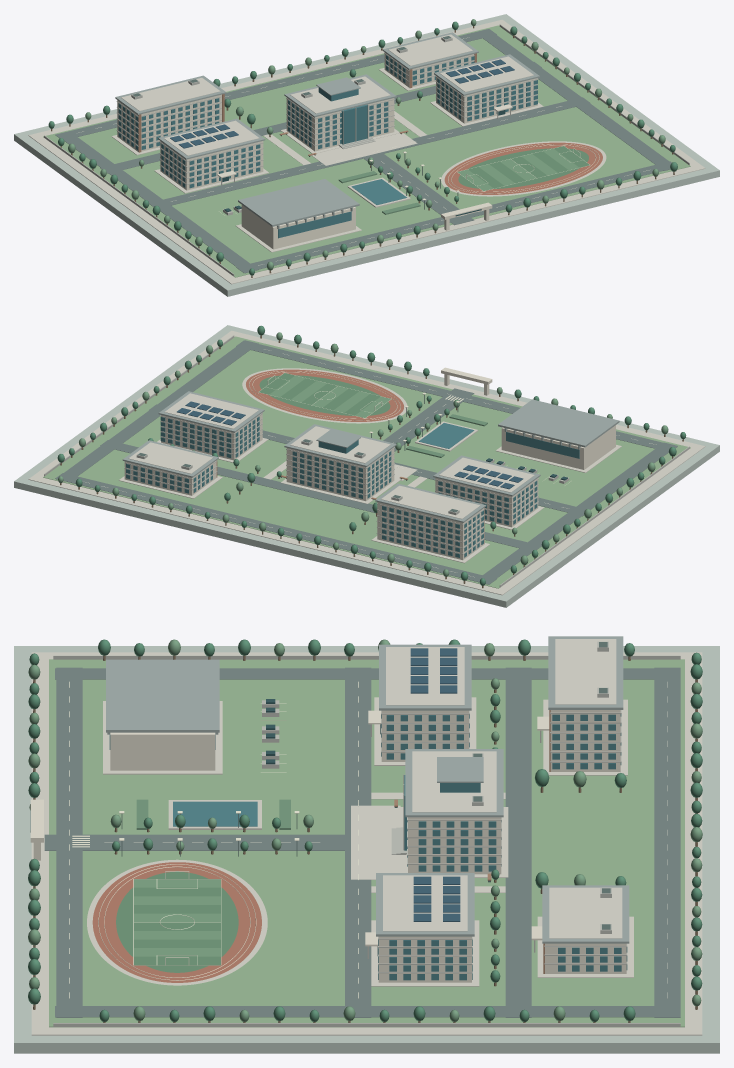
The model's file is campus.glb.
3 renders of one model, top to bottom at view 1: azimuth 30°, elevation 25°; view 2: azimuth 150°, elevation 25°; view 3: azimuth 270°, elevation 25°, orthographic. The views are drawn at different scales.
Parts seen in each view (by area): view 1: Campus_Grounds_lawn, Campus_Grounds_road, Campus_Grounds_base, Campus_Grounds_pavement, G01_roof, Trees_leaf, LIB01_glass, Sports_Field_track, Sports_Field_field, T01_wall, D01_wall, LIB01_wall (+33 smaller); view 2: Campus_Grounds_lawn, Campus_Grounds_road, Campus_Grounds_base, Campus_Grounds_pavement, Trees_leaf, G01_roof, D01_wall, LIB01_wall, Sports_Field_track, Sports_Field_field, LIB01_glass, G01_wall (+34 smaller); view 3: Campus_Grounds_lawn, Campus_Grounds_road, Campus_Grounds_base, Campus_Grounds_pavement, Trees_leaf, G01_roof, Sports_Field_field, Sports_Field_track, D01_pavement, L01_pavement, Campus_Grounds_trim, C01_pavement (+35 smaller).
Part boxes in pixels (left/top/right/bottom): Campus_Grounds_lawn: left=43, top=25, right=690, bottom=277; Campus_Grounds_road: left=55, top=29, right=671, bottom=273; Campus_Grounds_base: left=14, top=14, right=719, bottom=296; Campus_Grounds_pavement: left=28, top=19, right=705, bottom=284; G01_roof: left=238, top=179, right=359, bottom=229; Trees_leaf: left=48, top=21, right=677, bottom=275; LIB01_glass: left=288, top=87, right=388, bottom=149; Sports_Field_track: left=444, top=142, right=602, bottom=194; Sports_Field_field: left=458, top=146, right=589, bottom=188; T01_wall: left=160, top=141, right=263, bottom=190; D01_wall: left=117, top=94, right=221, bottom=151; LIB01_wall: left=286, top=97, right=394, bottom=151; Campus_Grounds_lawn: left=43, top=336, right=690, bottom=588; Campus_Grounds_road: left=55, top=340, right=677, bottom=584; Campus_Grounds_base: left=14, top=325, right=719, bottom=607; Campus_Grounds_pavement: left=28, top=330, right=705, bottom=595; Trees_leaf: left=57, top=325, right=686, bottom=585; G01_roof: left=498, top=399, right=619, bottom=449; D01_wall: left=377, top=502, right=484, bottom=560; LIB01_wall: left=286, top=447, right=394, bottom=501; Sports_Field_track: left=246, top=369, right=403, bottom=421; Sports_Field_field: left=259, top=373, right=390, bottom=415; LIB01_glass: left=292, top=440, right=391, bottom=498; G01_wall: left=501, top=425, right=615, bottom=469; Campus_Grounds_lawn: left=49, top=659, right=684, bottom=1027; Campus_Grounds_road: left=44, top=667, right=680, bottom=1017; Campus_Grounds_base: left=14, top=646, right=719, bottom=1053; Campus_Grounds_pavement: left=31, top=652, right=702, bottom=1035; Trees_leaf: left=28, top=639, right=702, bottom=1021; G01_roof: left=106, top=659, right=219, bottom=734; Sports_Field_field: left=116, top=871, right=238, bottom=972; Sports_Field_track: left=92, top=862, right=261, bottom=982; D01_pavement: left=543, top=639, right=627, bottom=775; L01_pavement: left=371, top=875, right=479, bottom=986; Campus_Grounds_trim: left=53, top=655, right=680, bottom=1026; C01_pavement: left=537, top=887, right=633, bottom=977.
Bounding box in the file's own units: 322 × 32.4 × 242.
